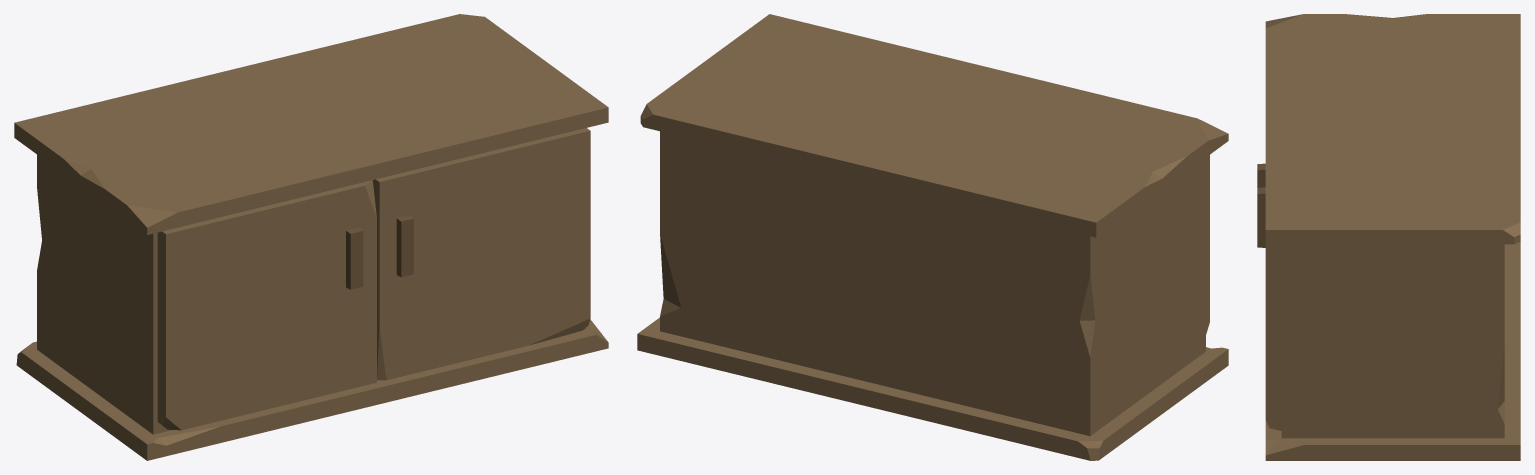
Rendered from kingdom_SM_Prop_Cabinet_03_Preset.gltf.
3 views of the same model, side by side, from view 1: azimuth 30°, elevation 25°; view 2: azimuth 150°, elevation 25°; view 3: azimuth 270°, elevation 25° (orthographic). The views are drawn at different scales.
Parts seen in each view (by area): view 1: SM_Prop_Cabinet_03_Preset; view 2: SM_Prop_Cabinet_03_Preset; view 3: SM_Prop_Cabinet_03_Preset.
Boxes of the visible parts, bbox=[...] form: SM_Prop_Cabinet_03_Preset: bbox=[14, 14, 608, 460]; SM_Prop_Cabinet_03_Preset: bbox=[637, 14, 1228, 460]; SM_Prop_Cabinet_03_Preset: bbox=[1257, 14, 1520, 460].
Bounding box in the file's own units: 1.6 × 0.8 × 0.8255.
Materials: 1 (1 with a texture image).
